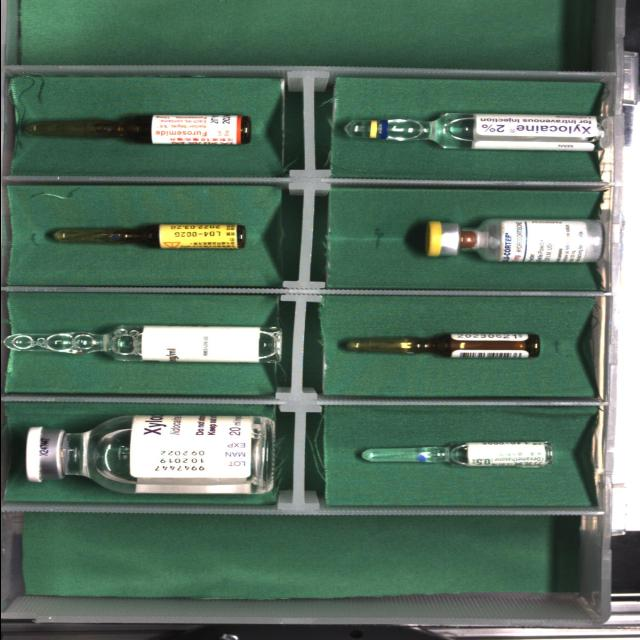Vials: (25, 415, 273, 494), (425, 219, 602, 262)
